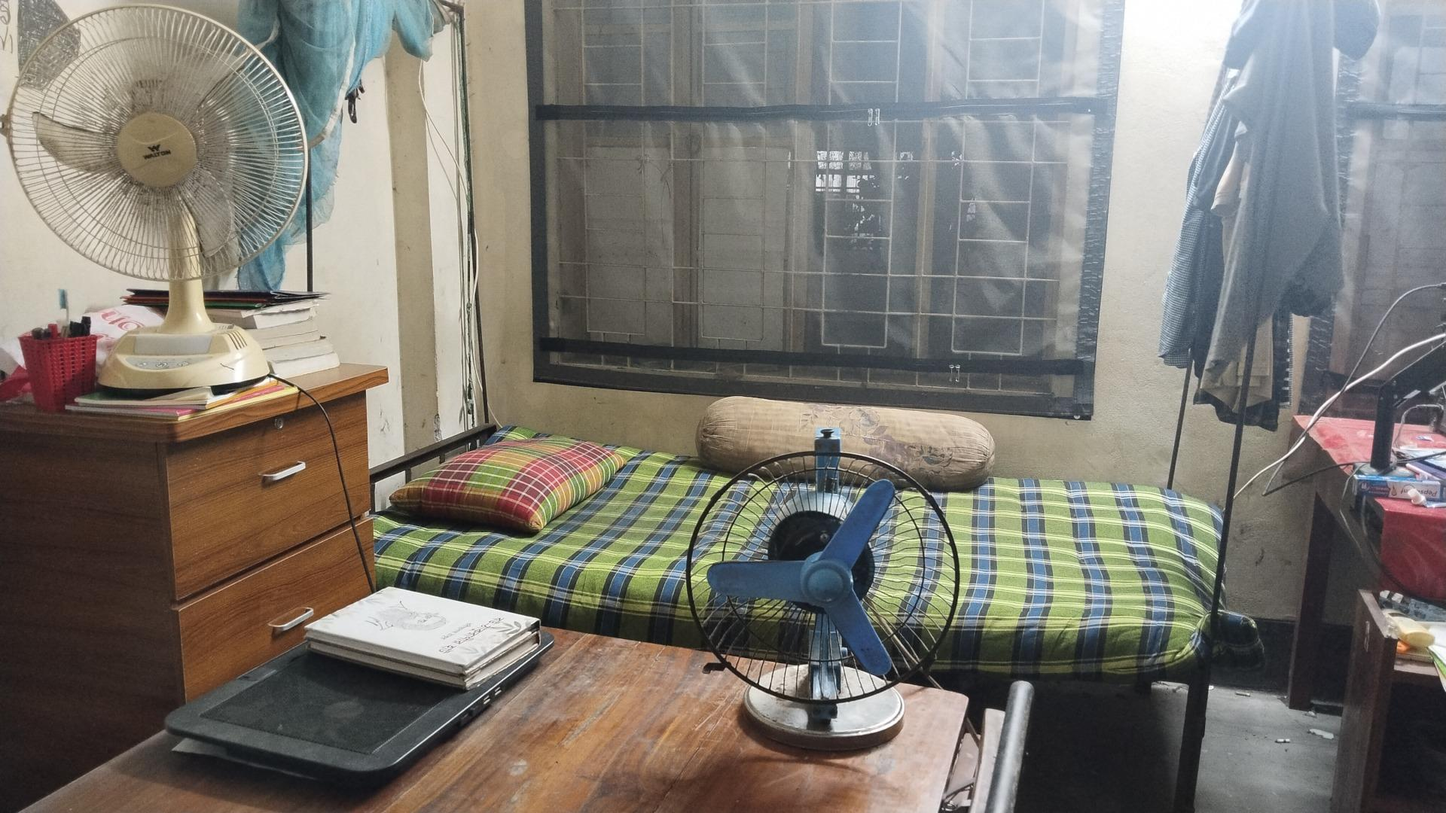Book: (304, 580, 541, 689)
Fan: (4, 8, 314, 391), (686, 435, 962, 749)
Pillow: (702, 397, 995, 486), (392, 435, 624, 524)
Window: (536, 2, 680, 368), (939, 2, 1073, 389), (686, 2, 806, 378), (813, 4, 931, 380)
